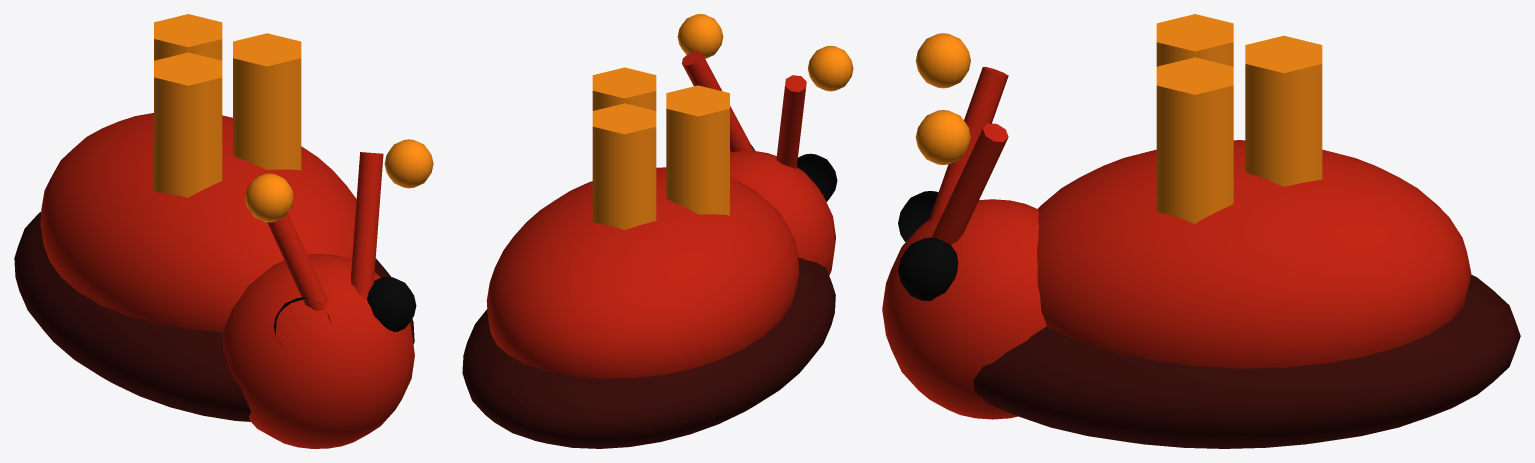
File: ascua.obj
The picture shows the model from 3 angles, left to right: view 1: azimuth 30°, elevation 25°; view 2: azimuth 150°, elevation 25°; view 3: azimuth 270°, elevation 25°; orthographic projection. The views are drawn at different scales.
Size of the model in its own units: 0.4 by 0.4 by 0.647.
